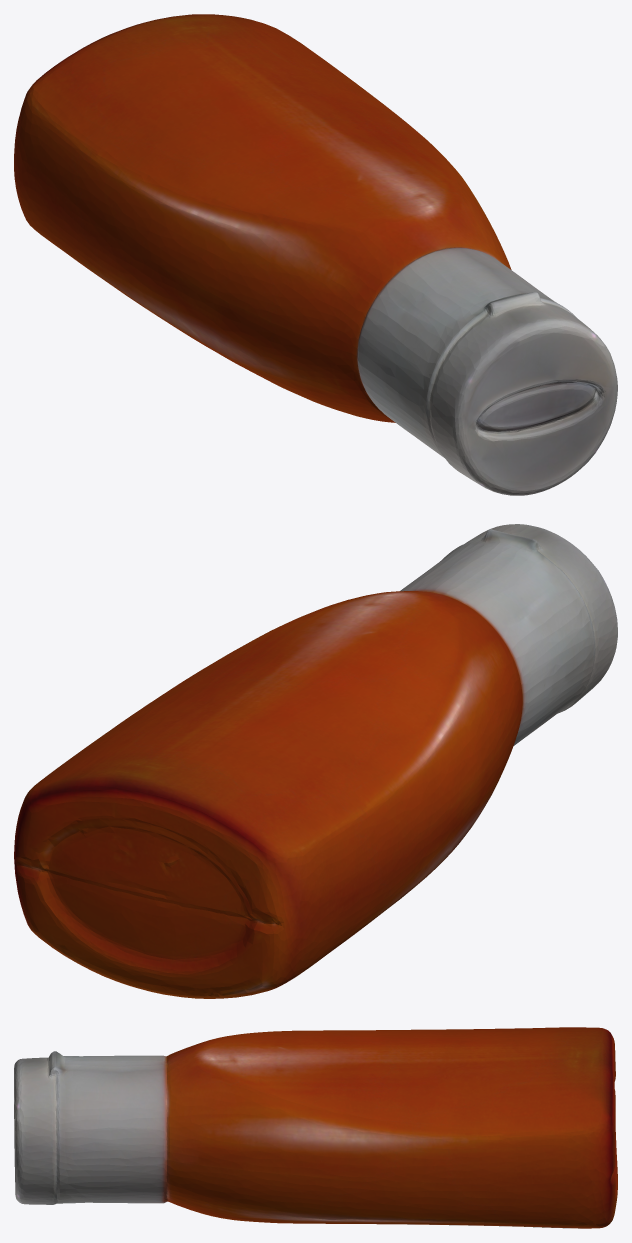
File: ketchup.glb
The picture shows the model from 3 angles, top to bottom: view 1: azimuth 30°, elevation 25°; view 2: azimuth 150°, elevation 25°; view 3: azimuth 270°, elevation 25°; orthographic projection. The views are drawn at different scales.
Visible parts, largest first — view 1: textured; view 2: textured; view 3: textured.
Boxes of the visible parts, box(x1,y1,x2,y2) form: textured: box(14, 14, 617, 495); textured: box(14, 524, 617, 998); textured: box(14, 1027, 617, 1228).
Bounding box in the file's own units: 6.45 × 4.34 × 14.86.
1 material, 1 textured.
